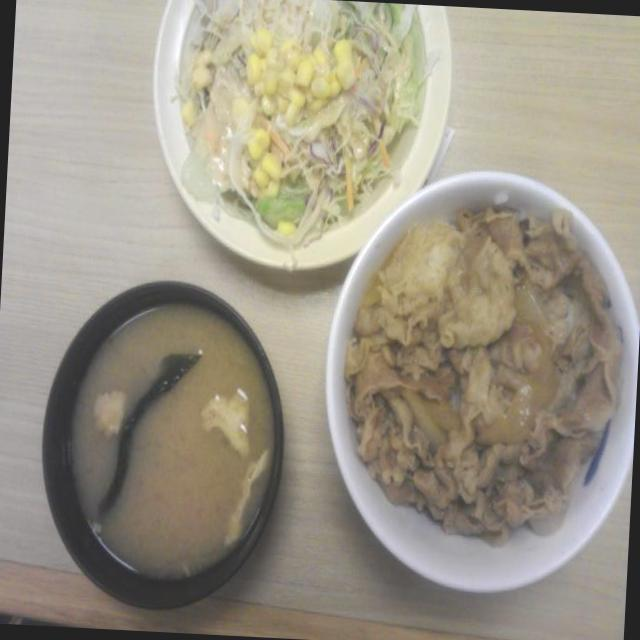Green Salad: (157, 0, 426, 218)
